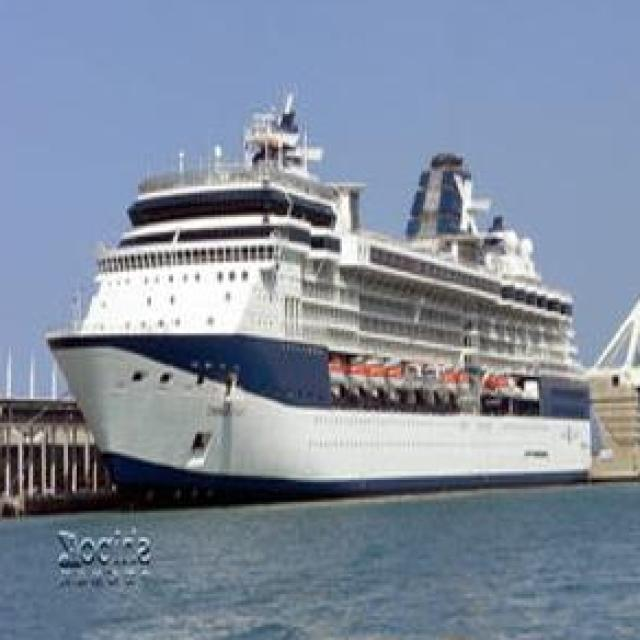passenger ship: (40, 84, 598, 497)
